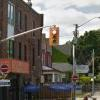Traffic light: (40, 17, 75, 60)
